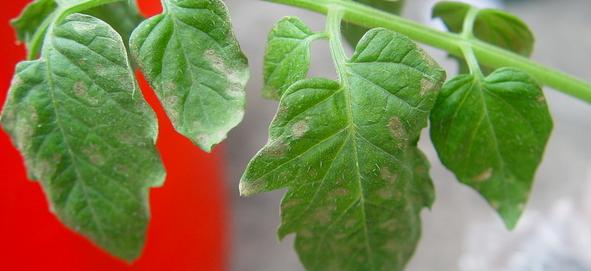Tomato mold leaf: (241, 33, 456, 271), (0, 15, 174, 269), (424, 70, 560, 233), (129, 0, 250, 159)
